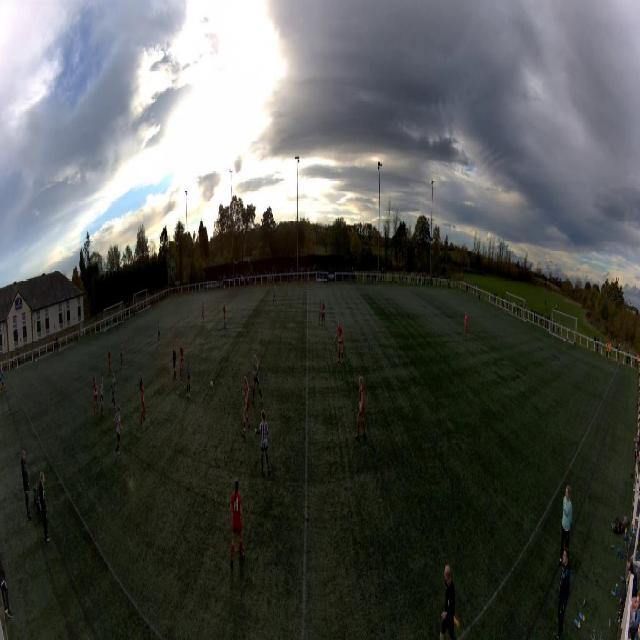ball: (210, 381, 213, 389)
player: (229, 477, 245, 564), (258, 411, 270, 471), (356, 379, 367, 440), (252, 350, 263, 408), (243, 374, 252, 432), (114, 404, 123, 459), (334, 321, 345, 363), (140, 378, 146, 423), (93, 376, 99, 418), (186, 359, 192, 398), (111, 372, 117, 410), (99, 378, 105, 415), (173, 345, 177, 379), (321, 300, 326, 327), (180, 344, 184, 375), (108, 348, 112, 376), (120, 341, 124, 369), (464, 312, 468, 337), (273, 286, 278, 306), (319, 298, 322, 325), (157, 320, 160, 345), (223, 304, 226, 328), (110, 316, 113, 333), (202, 303, 204, 322)
